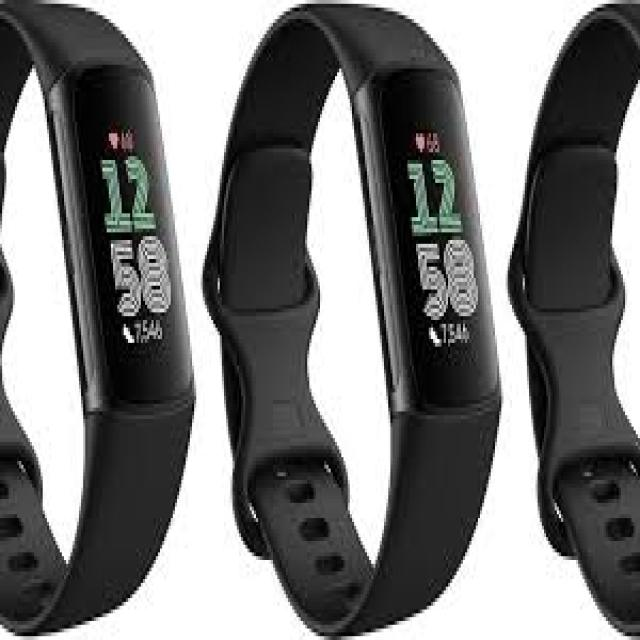objects: (203, 4, 503, 632), (0, 0, 194, 632), (499, 4, 640, 632)
